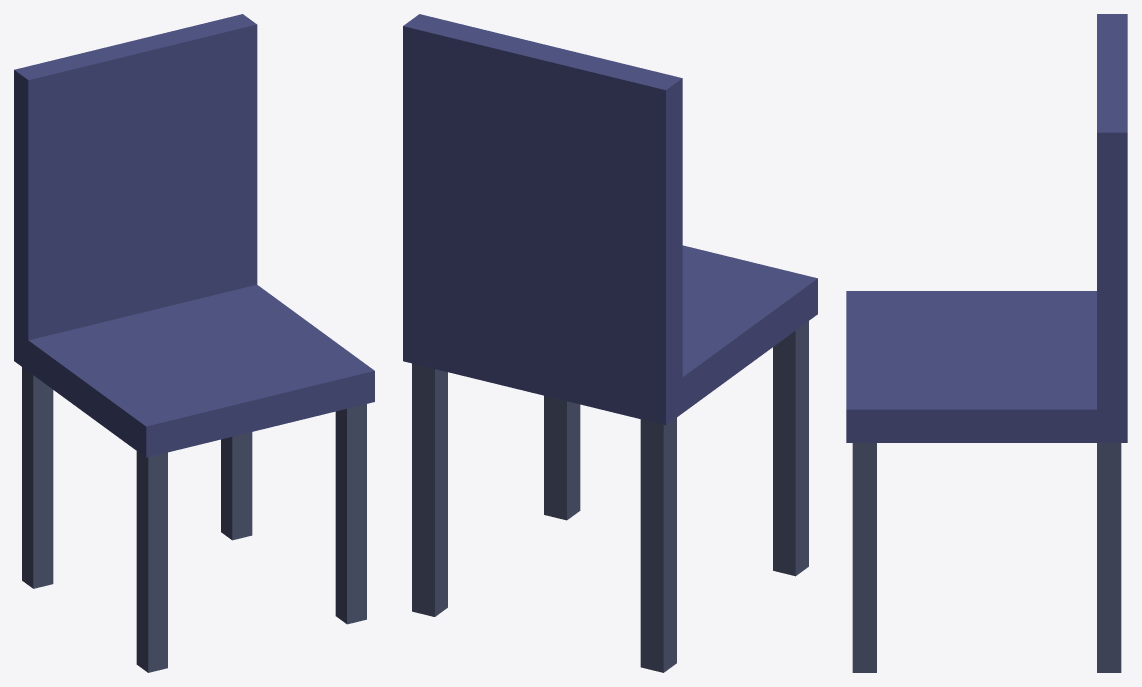
The model's file is Chair.fbx.
The picture shows the model from 3 angles, left to right: view 1: azimuth 30°, elevation 25°; view 2: azimuth 150°, elevation 25°; view 3: azimuth 270°, elevation 25°; orthographic projection. The views are drawn at different scales.
Parts seen in each view (by area): view 1: Chair; view 2: Chair; view 3: Chair.
Part boxes in pixels (bbox=[...]): Chair: bbox=[14, 14, 374, 672]; Chair: bbox=[403, 14, 817, 672]; Chair: bbox=[846, 14, 1127, 672].
Bounding box in the file's own units: 0.46 × 0.98 × 0.46.
